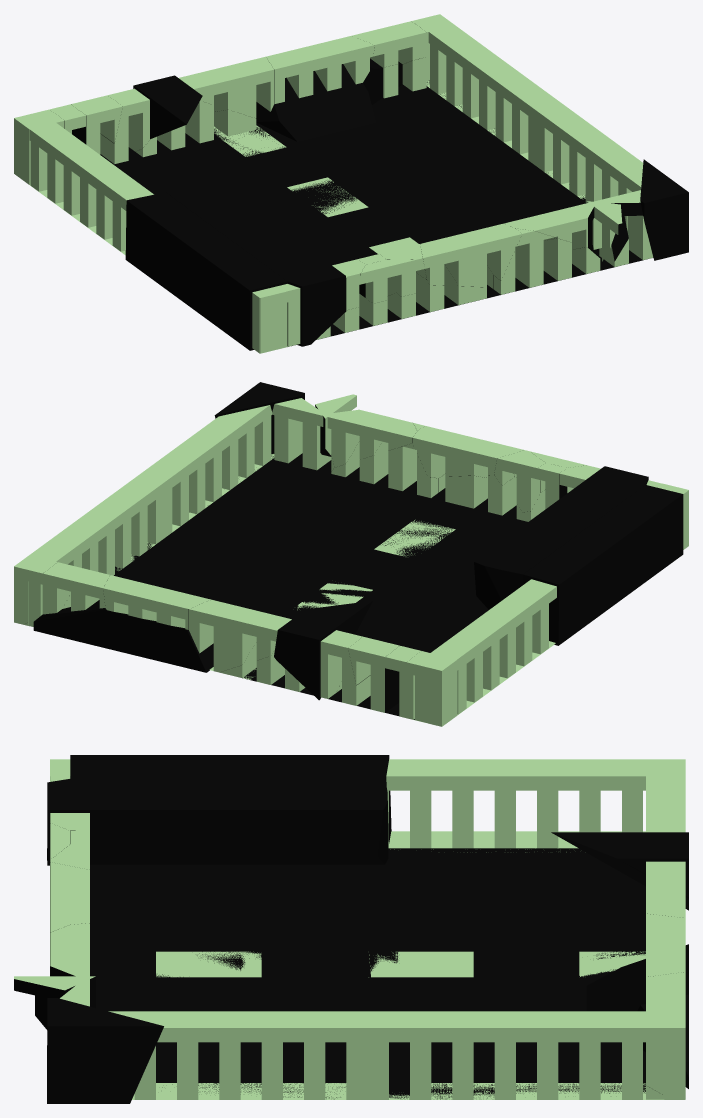
Rendered from Sci-fi_raceTrackStraight_Beta3.fbx.
3 renders of one model, top to bottom at view 1: azimuth 30°, elevation 25°; view 2: azimuth 150°, elevation 25°; view 3: azimuth 270°, elevation 25°, orthographic. The views are drawn at different scales.
Visible parts, largest first — view 1: Plane, Plane_cell.004, Plane_cell.010, Plane_cell.014, Plane_cell.030, Plane_cell.017, Plane_cell.006, Plane_cell.001, Plane_cell.013, Plane_cell.027, Plane_cell.026, Plane_cell.018 (+19 smaller); view 2: Plane, Plane_cell.004, Plane_cell.022, Plane_cell.010, Plane_cell.013, Plane_cell.018, Plane_cell.008, Plane_cell.027, Plane_cell.017, Plane_cell.006, Plane_cell.002, Plane_cell.001 (+17 smaller); view 3: Plane, Plane_cell.010, Plane_cell.026, Plane_cell.022, Plane_cell.004, Plane_cell.007, Plane_cell.008, Plane_cell.015, Plane_cell.027, Plane_cell.017, Plane_cell.001, Plane_cell.006 (+14 smaller).
Part boxes in pixels (bbox=[...]): Plane: bbox=[15, 14, 653, 353]; Plane_cell.004: bbox=[125, 192, 287, 350]; Plane_cell.010: bbox=[166, 180, 346, 346]; Plane_cell.014: bbox=[185, 101, 370, 222]; Plane_cell.030: bbox=[299, 123, 459, 200]; Plane_cell.017: bbox=[256, 64, 376, 141]; Plane_cell.006: bbox=[420, 223, 522, 287]; Plane_cell.001: bbox=[266, 36, 374, 104]; Plane_cell.013: bbox=[493, 228, 600, 294]; Plane_cell.027: bbox=[478, 169, 653, 266]; Plane_cell.026: bbox=[640, 159, 688, 260]; Plane_cell.018: bbox=[179, 56, 273, 118]; Plane: bbox=[14, 405, 688, 722]; Plane_cell.004: bbox=[523, 485, 683, 645]; Plane_cell.022: bbox=[312, 475, 522, 596]; Plane_cell.010: bbox=[474, 466, 648, 609]; Plane_cell.013: bbox=[330, 423, 445, 516]; Plane_cell.018: bbox=[189, 599, 291, 672]; Plane_cell.008: bbox=[274, 600, 372, 700]; Plane_cell.027: bbox=[199, 398, 331, 551]; Plane_cell.017: bbox=[105, 610, 213, 672]; Plane_cell.006: bbox=[412, 426, 524, 478]; Plane_cell.002: bbox=[323, 409, 417, 467]; Plane_cell.001: bbox=[103, 575, 210, 629]; Plane: bbox=[50, 759, 685, 1099]; Plane_cell.010: bbox=[47, 778, 388, 865]; Plane_cell.026: bbox=[47, 998, 163, 1103]; Plane_cell.022: bbox=[90, 921, 371, 995]; Plane_cell.004: bbox=[70, 755, 391, 843]; Plane_cell.007: bbox=[90, 865, 383, 920]; Plane_cell.008: bbox=[551, 832, 688, 910]; Plane_cell.015: bbox=[389, 1042, 664, 1099]; Plane_cell.027: bbox=[60, 979, 346, 1099]; Plane_cell.017: bbox=[586, 944, 688, 1011]; Plane_cell.001: bbox=[646, 913, 685, 976]; Plane_cell.006: bbox=[50, 862, 89, 924].
Bounding box in the file's own units: 1010 × 135 × 1062.
